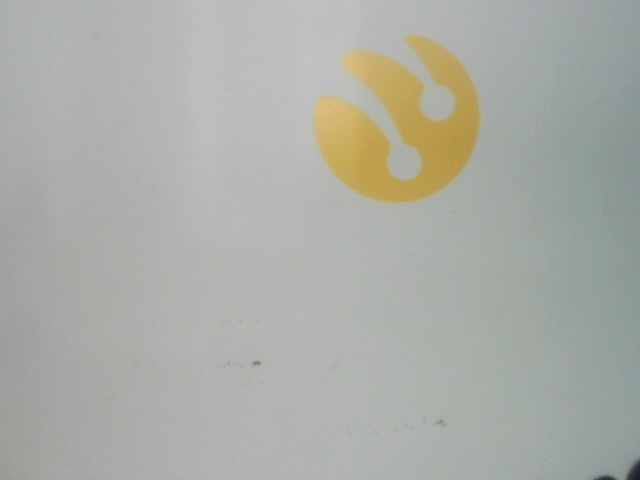AV_H3600Yellow: (292, 30, 490, 205)
